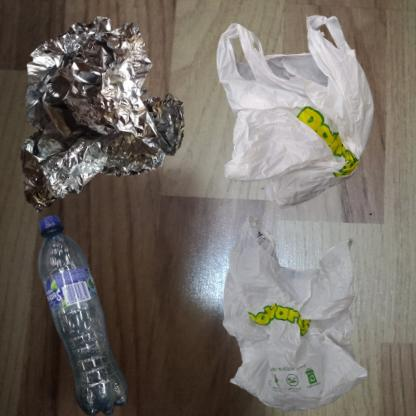aluminio: (10, 10, 193, 216)
bolsa: (213, 10, 383, 216), (213, 213, 384, 416)
botella: (10, 213, 164, 416)
